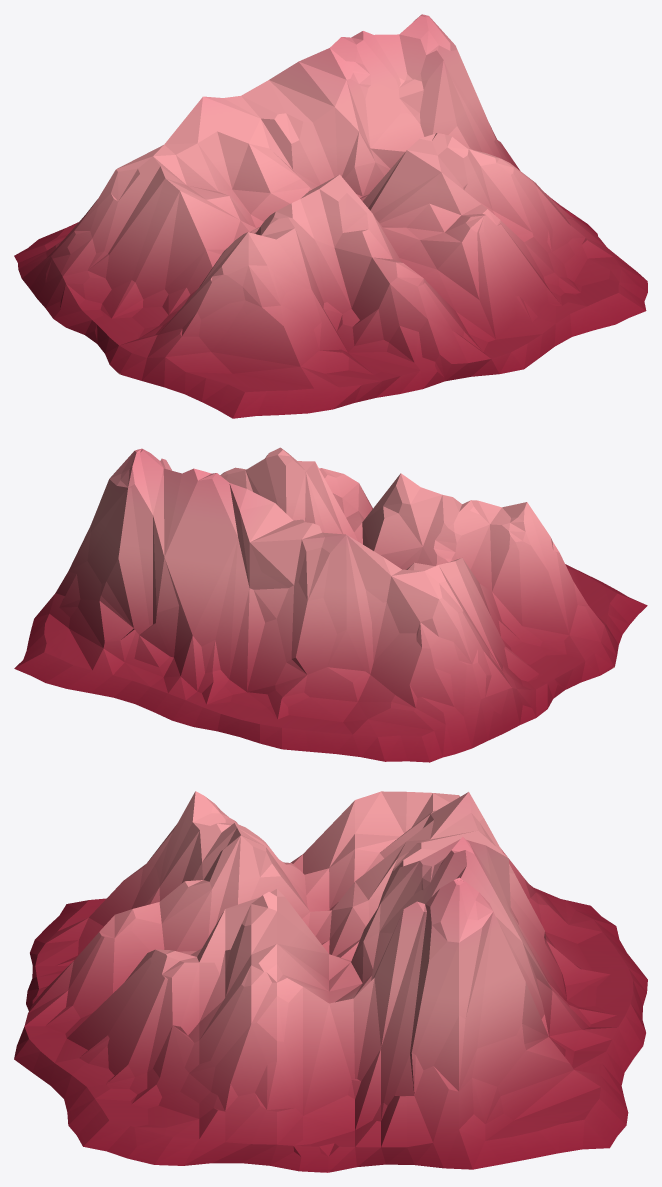
File: Sunset_Mountain_003.FBX
3 views of the same model, one above another, from view 1: azimuth 30°, elevation 25°; view 2: azimuth 150°, elevation 25°; view 3: azimuth 270°, elevation 25° (orthographic). The views are drawn at different scales.
Visible parts, largest first — view 1: Sunset_Mountain_003; view 2: Sunset_Mountain_003; view 3: Sunset_Mountain_003.
Part boxes in pixels (box(x1,y1,x2,y2)): Sunset_Mountain_003: box(14, 14, 647, 418); Sunset_Mountain_003: box(14, 447, 647, 762); Sunset_Mountain_003: box(14, 791, 647, 1172).
Bounding box in the file's own units: 3634 × 1361 × 3338.
1 material, 1 textured.
